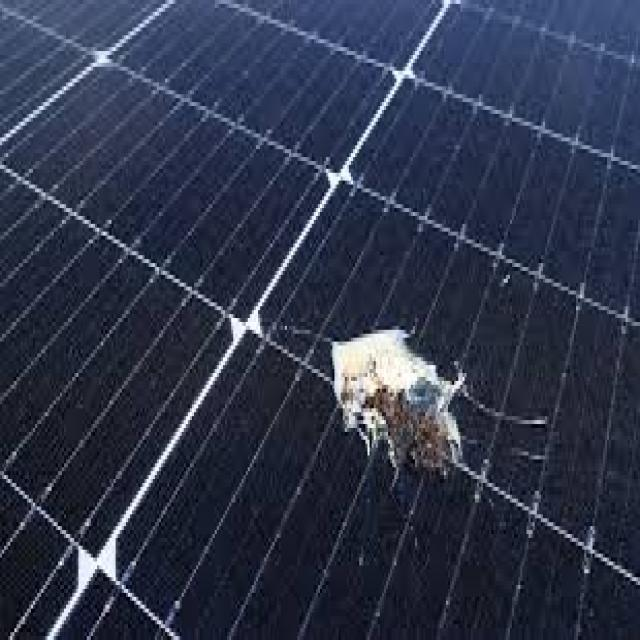Bird-drop: (331, 324, 557, 475)
